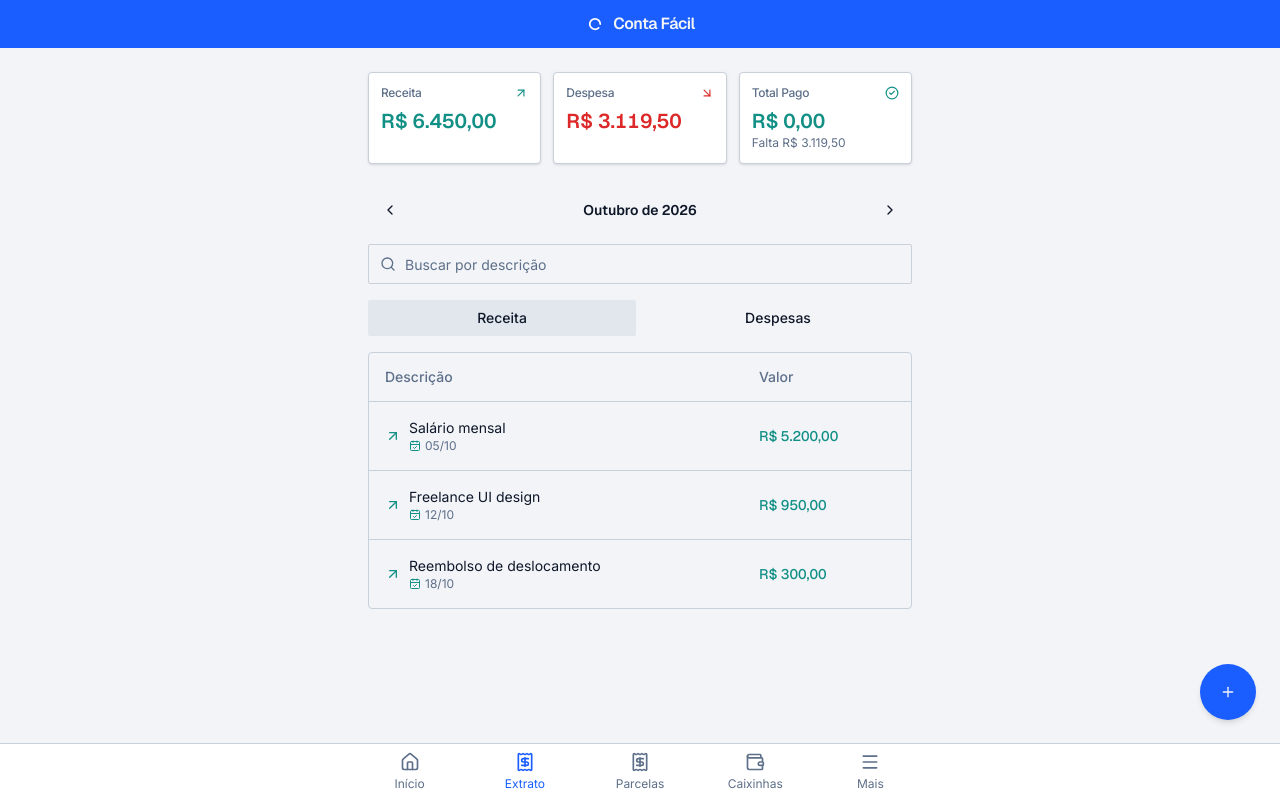
Scenario: TelaExtrato › o FAB abre o modal de registrar despesa
What coordinates should you click on to do the following:
click the button named "Registrar lançamento"
I would click on:
 (1228, 692)
Its box is [1200,664,1256,720].
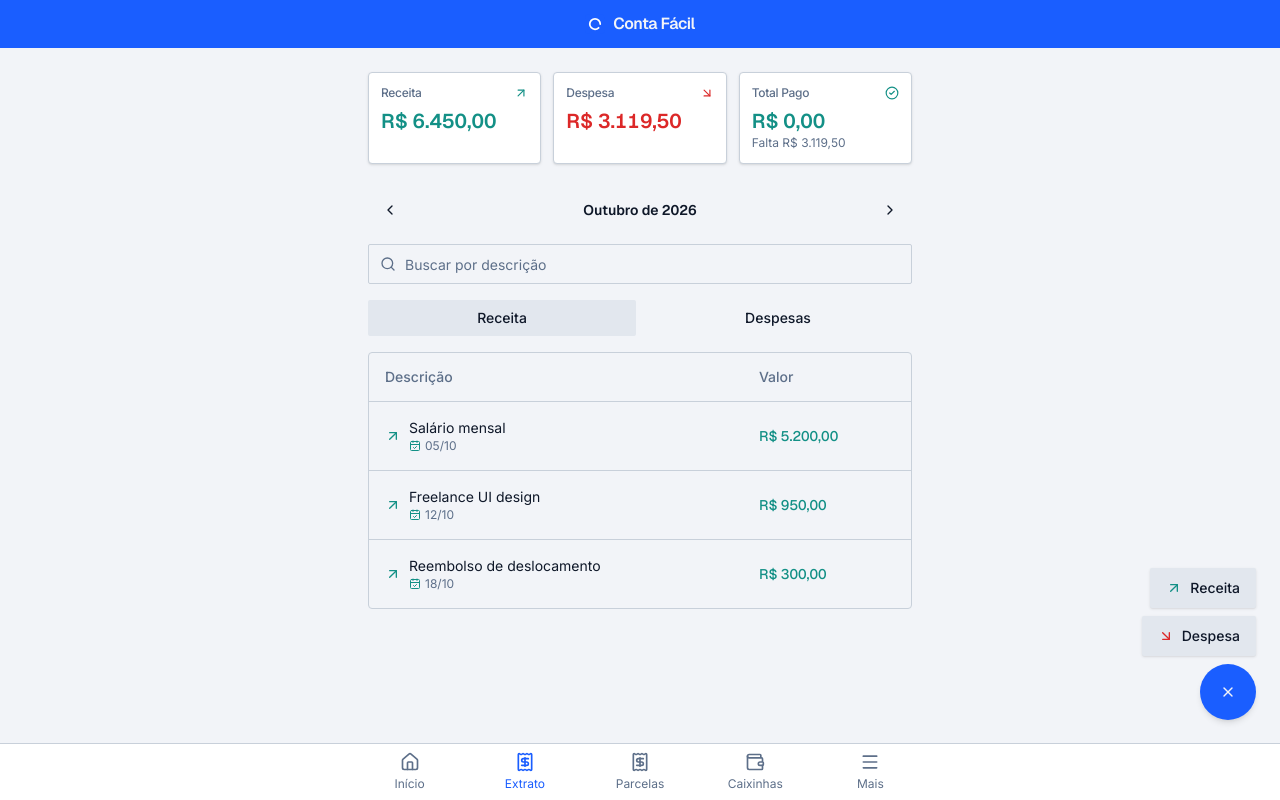
What coordinates should you click on to do the following:
click the button "Despesa"
I would click on:
 (1199, 636)
Its box is [1142,616,1256,656].
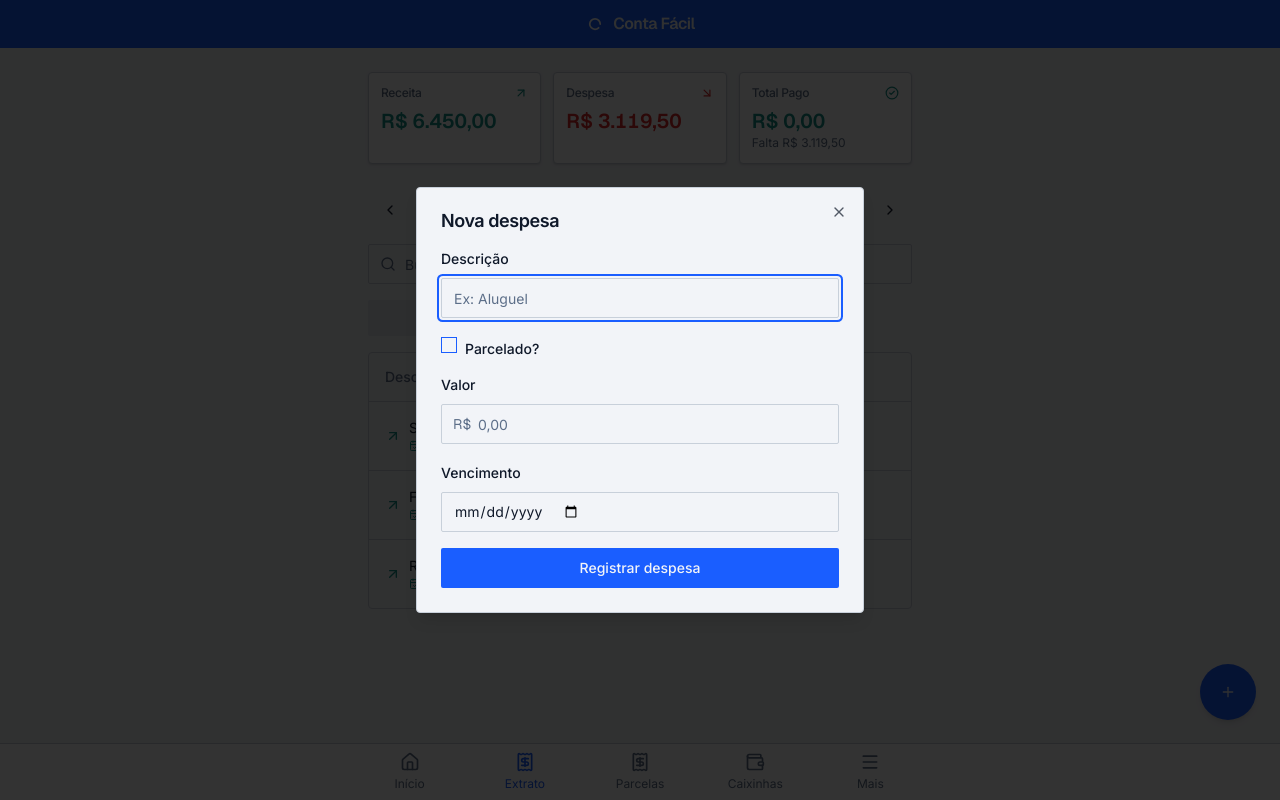
expect the dialog is shown: met, box [416,187,864,613]
